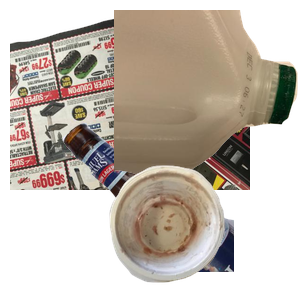glass: (60, 120, 300, 300)
paper: (10, 15, 250, 195)
plastic: (114, 10, 300, 179)
trash: (107, 163, 300, 300)
